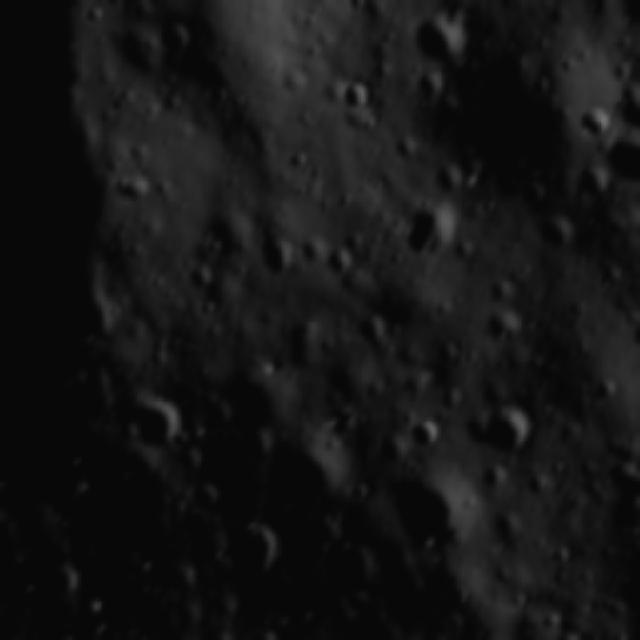crater: (474, 50, 566, 161), (386, 464, 474, 558), (263, 432, 343, 508), (203, 515, 277, 587), (268, 507, 341, 573), (113, 391, 184, 449), (402, 12, 470, 66), (480, 401, 535, 465), (68, 289, 122, 348), (406, 203, 456, 262), (318, 540, 372, 594), (258, 232, 302, 285), (336, 588, 382, 626), (482, 306, 524, 346), (537, 215, 577, 256), (424, 160, 464, 200), (184, 254, 218, 300), (576, 102, 613, 143), (159, 17, 196, 58), (486, 506, 523, 546), (576, 162, 612, 203), (352, 311, 390, 349), (408, 65, 444, 104), (184, 481, 222, 516), (406, 416, 440, 455), (520, 464, 552, 502), (339, 78, 370, 114), (82, 3, 111, 26)
